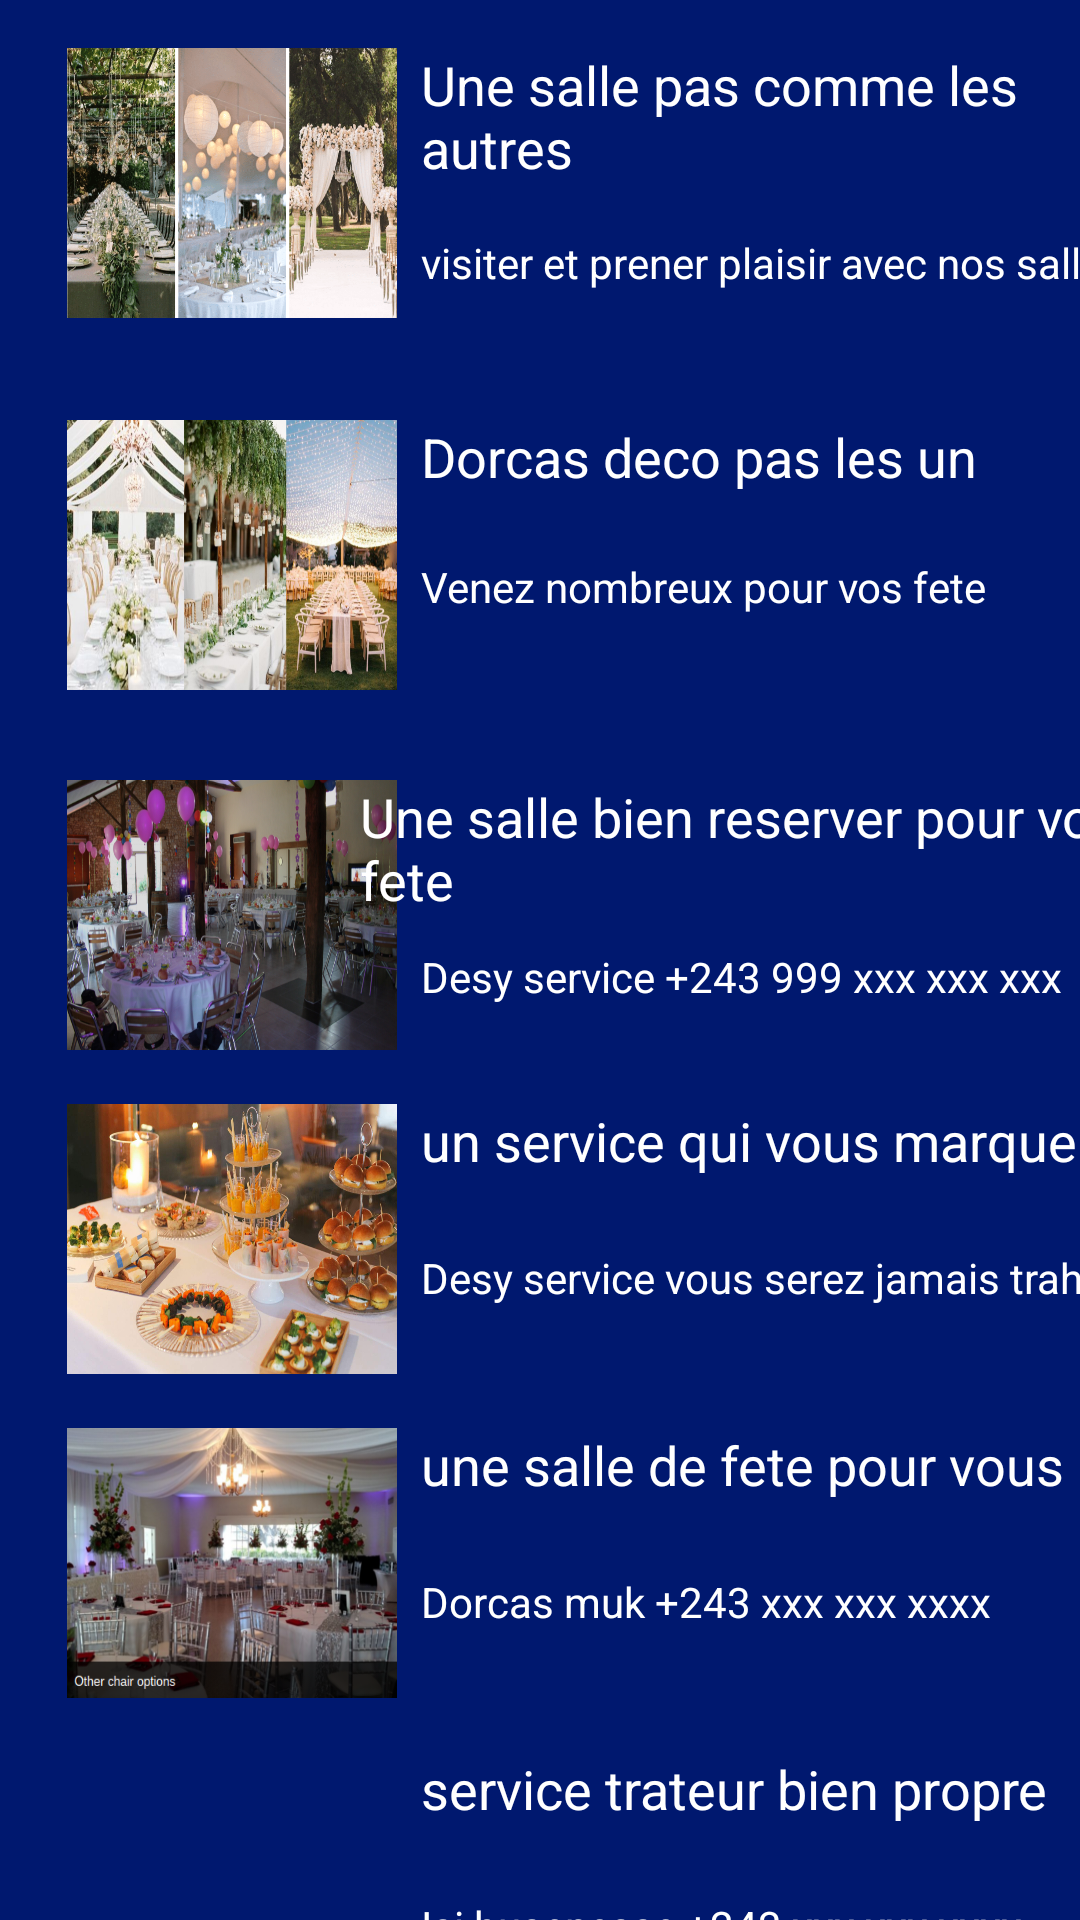

Where to tap for icons on this 1080×1920 app screen, as point (x, y):
mariage: point (232, 183), point (232, 555)
traiteur: point (232, 1239)
